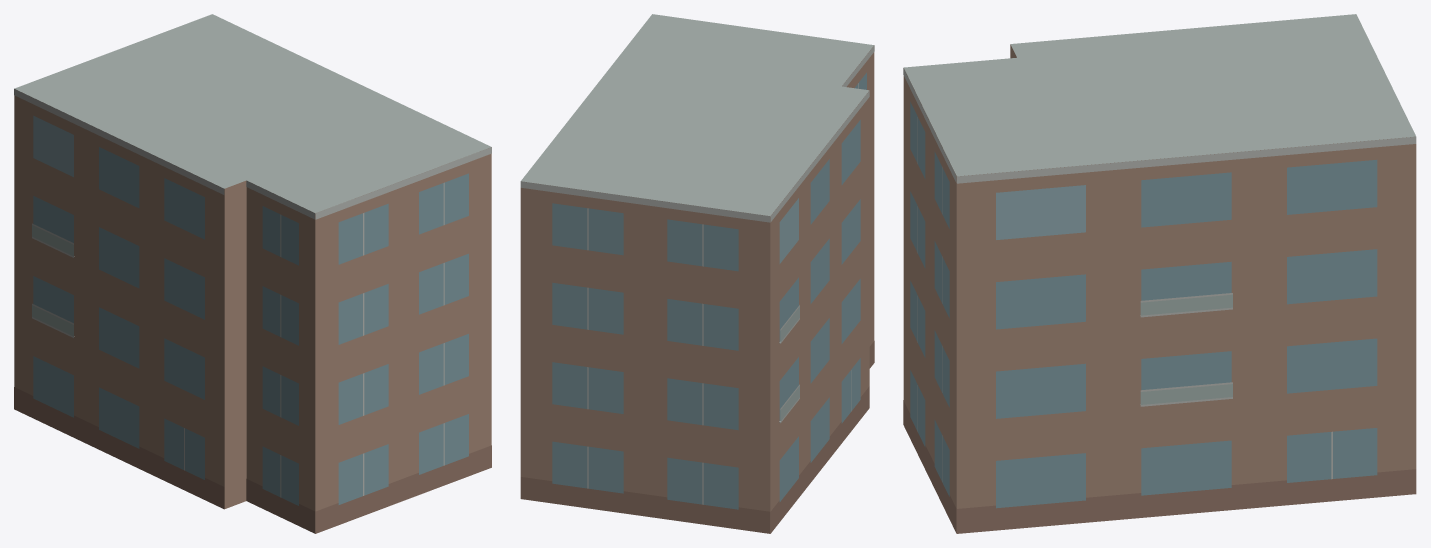
Rendered from survey-upis-32917160.glb.
3 renders of one model, left to right at view 1: azimuth 30°, elevation 25°; view 2: azimuth 150°, elevation 25°; view 3: azimuth 270°, elevation 25°, orthographic. The views are drawn at different scales.
Parts seen in each view (by area): view 1: survey-upis-32917160.tmp; view 2: survey-upis-32917160.tmp; view 3: survey-upis-32917160.tmp.
Part boxes in pixels (box(x1,y1,x2,y2)): survey-upis-32917160.tmp: box(14, 14, 491, 533); survey-upis-32917160.tmp: box(520, 14, 874, 533); survey-upis-32917160.tmp: box(903, 14, 1416, 533).
Bounding box in the file's own units: 11.66 × 11.96 × 15.56.
